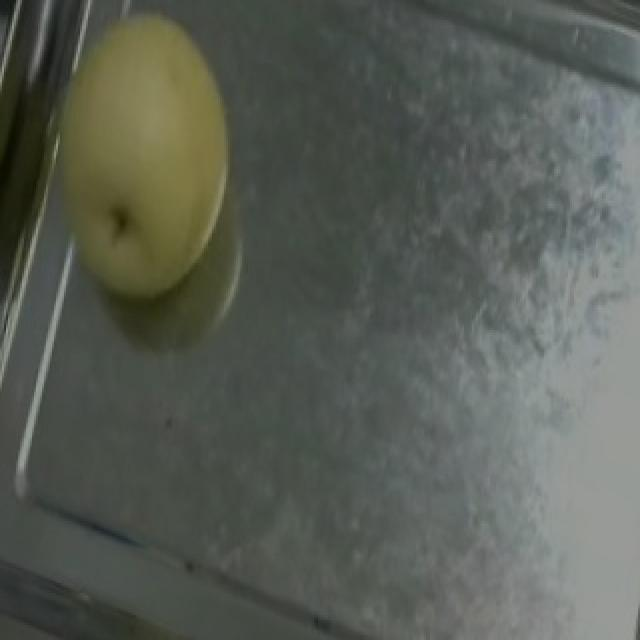Fruit: (12, 0, 270, 327)
